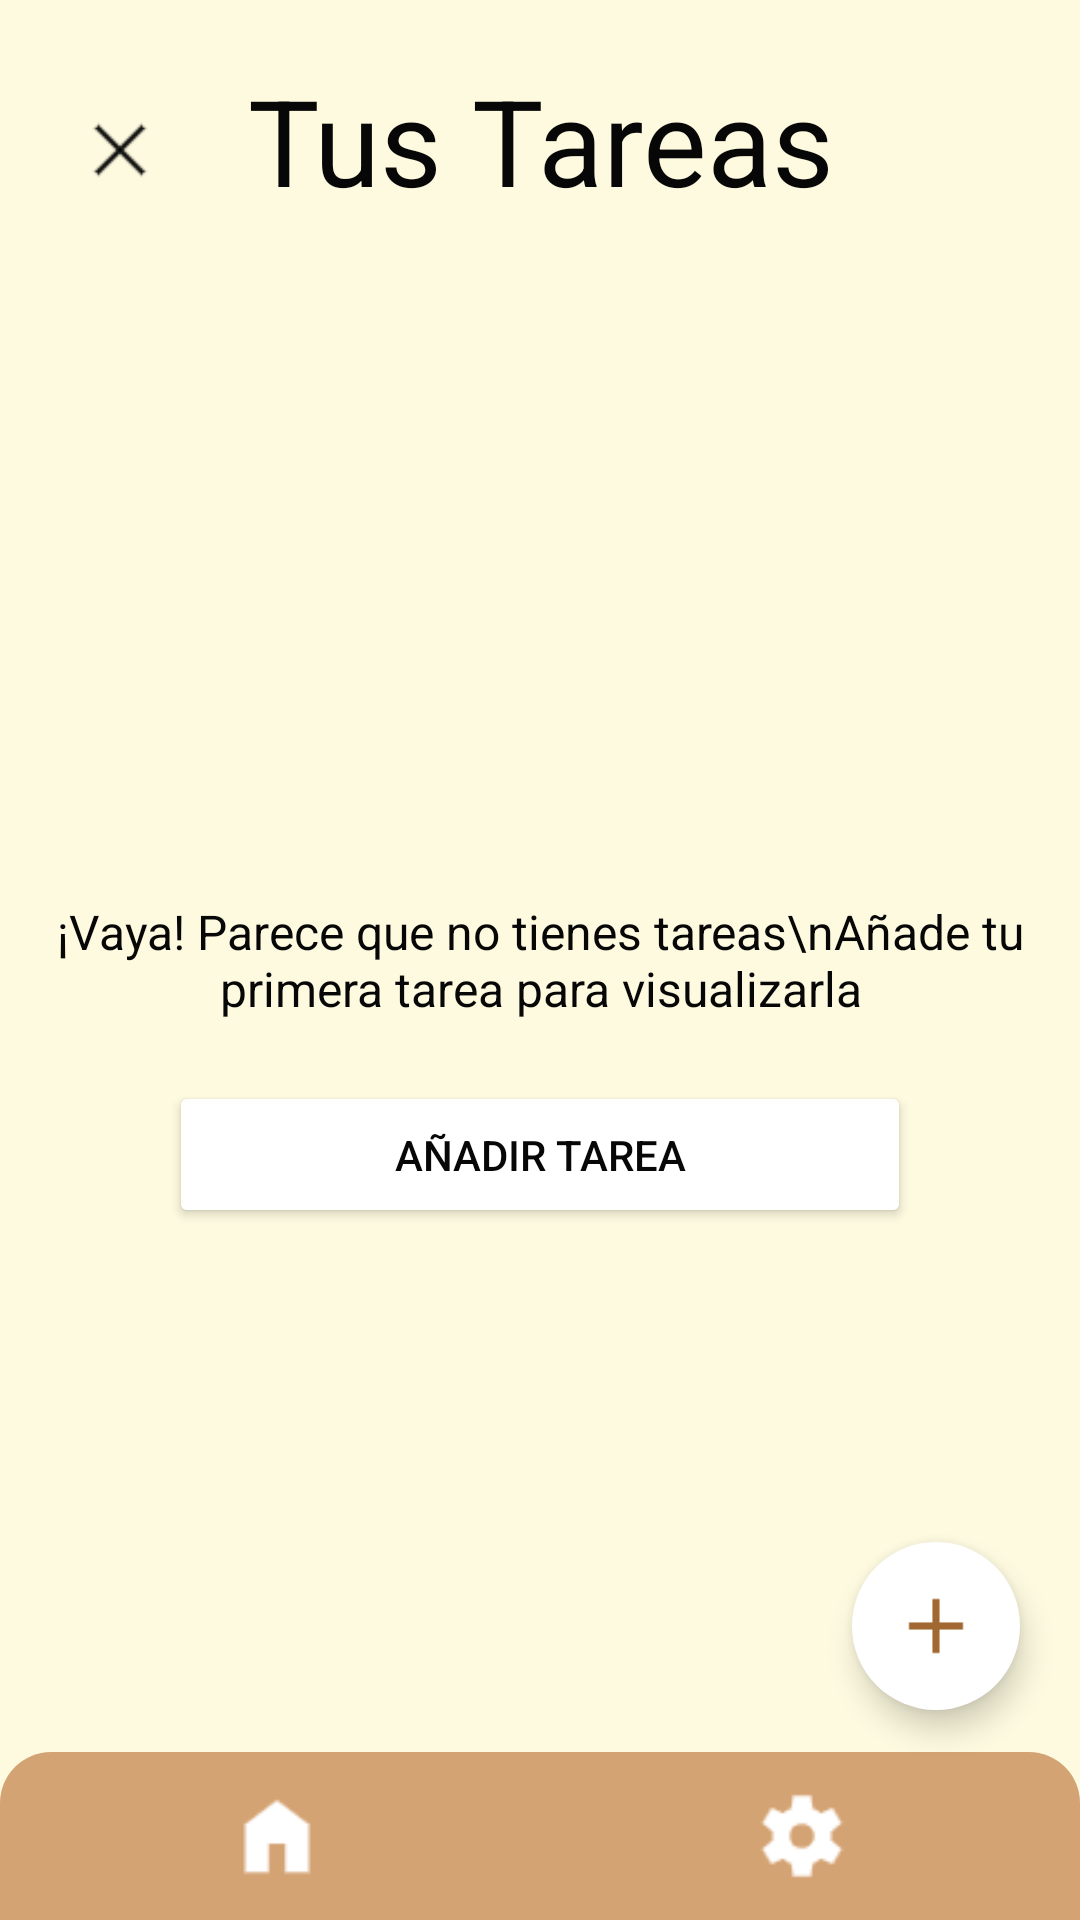

Where icons sit on this 1080*1920 app screen, as {"x1": x1, "y1": y1, "x2": x2, "y2": y2}:
add: {"x1": 852, "y1": 1542, "x2": 1020, "y2": 1710}
